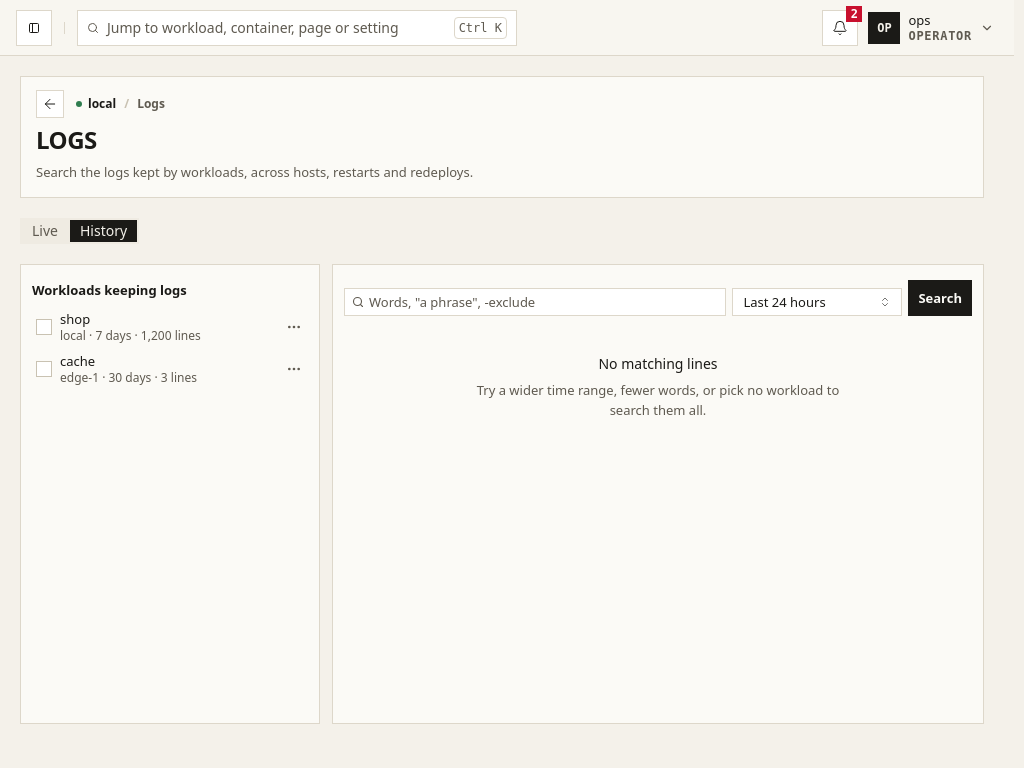
Test: logs history › reports a failed retention change
Expected: the text "No matching lines" is shown, [598, 354, 718, 374]
Click the button named "Retention of shop": (294, 327) [284, 317, 304, 337]
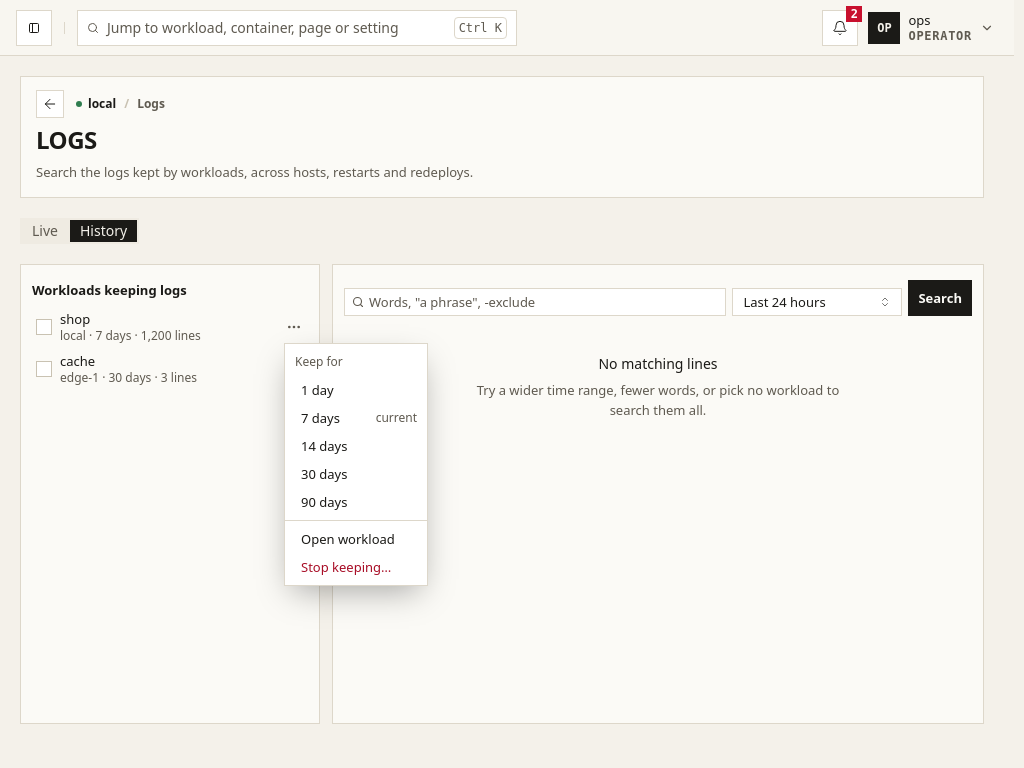
Click the menu item "1 day": (317, 390) [301, 381, 334, 399]
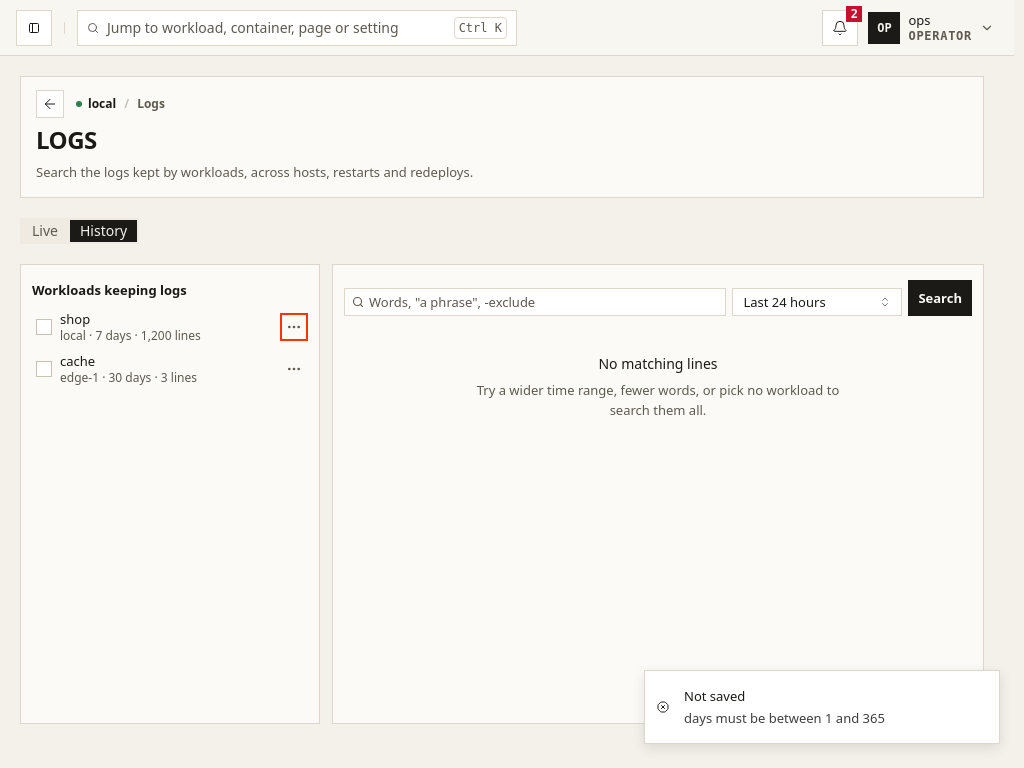
Result: the text "days must be between 1 and 365" is shown at [684, 709, 885, 727]
Click the button named "Retention of shop": (294, 327) [284, 317, 304, 337]
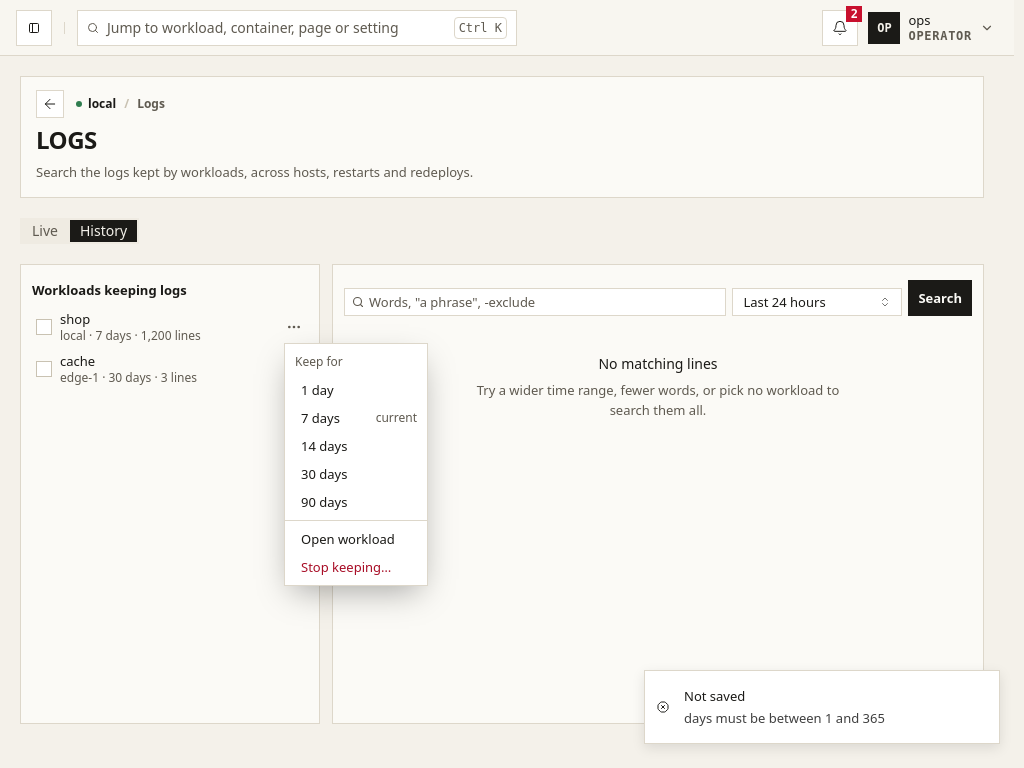
Click the menu item "Stop keeping…": (346, 567) [301, 558, 391, 576]
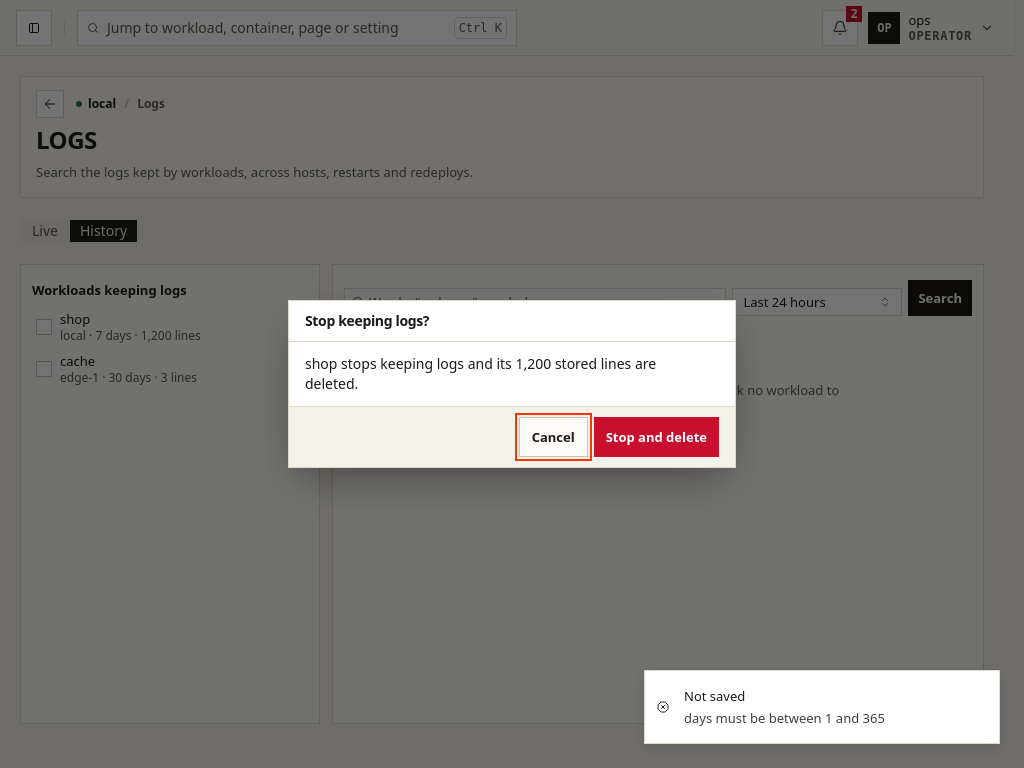
Click the button "Stop and delete": (656, 437) [594, 417, 719, 457]
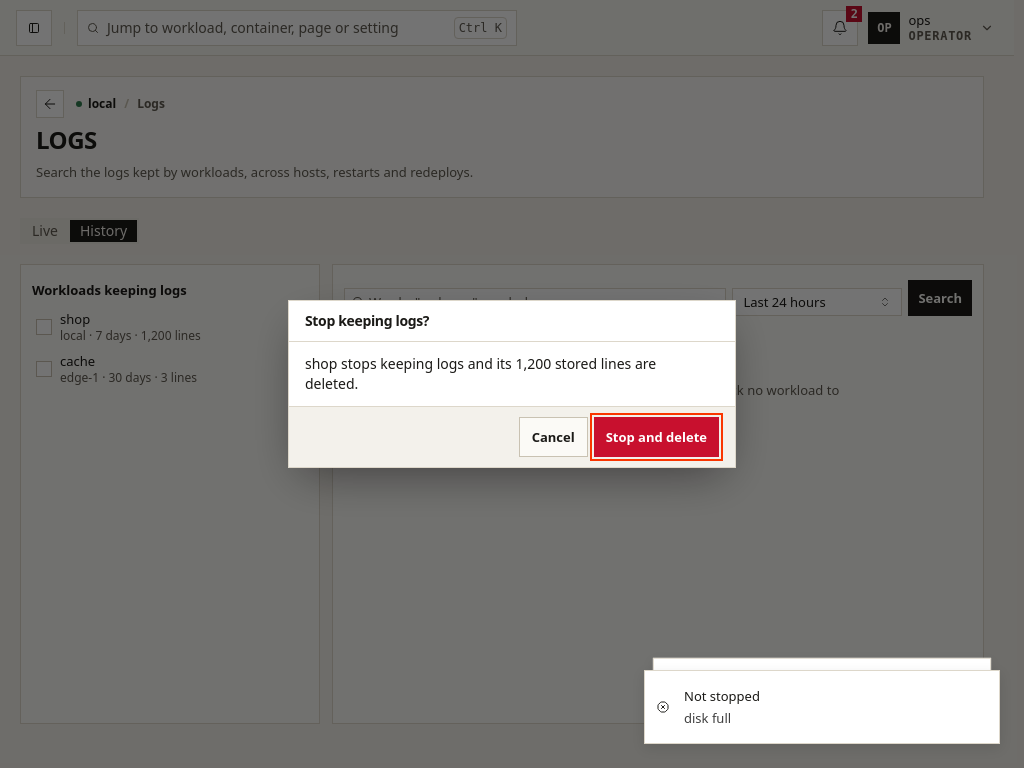
Result: the text "disk full" is shown at [684, 709, 731, 727]
